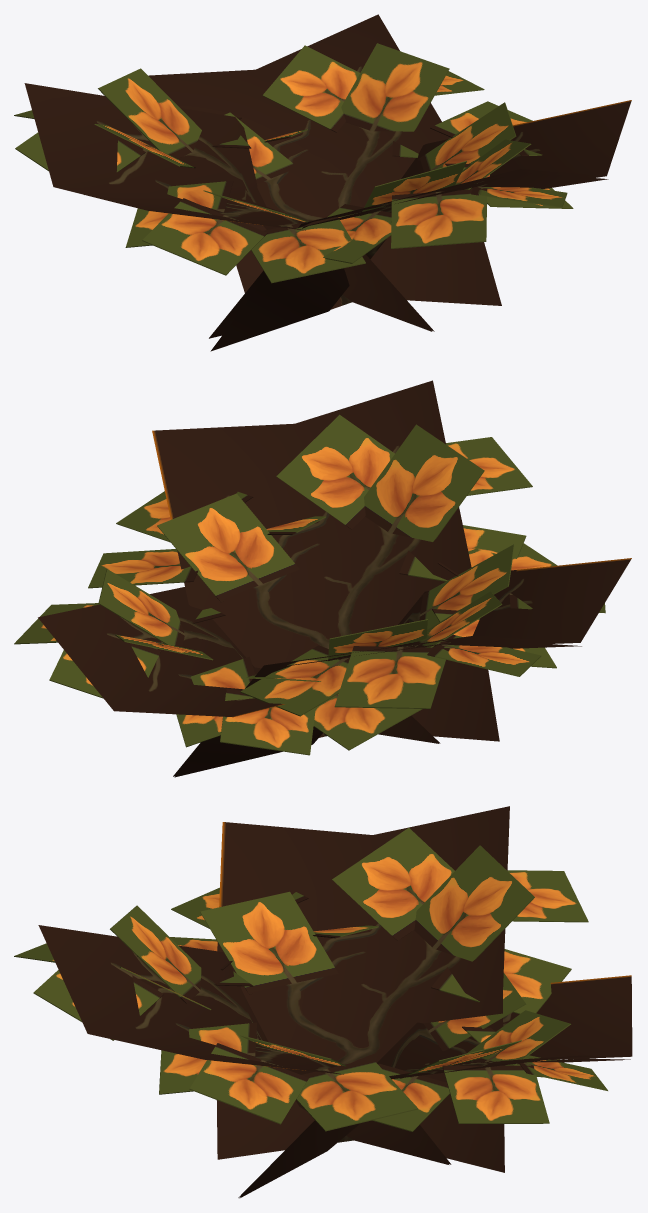
Rendered from bush_03d.fbx.
3 views of the same model, one above another, from view 1: azimuth 30°, elevation 25°; view 2: azimuth 150°, elevation 25°; view 3: azimuth 270°, elevation 25° (orthographic). The views are drawn at different scales.
Visible parts, largest first — view 1: bush_03d; view 2: bush_03d; view 3: bush_03d.
Part boxes in pixels (left/top/right/bottom): bush_03d: left=14, top=14, right=631, bottom=351; bush_03d: left=14, top=380, right=631, bottom=777; bush_03d: left=14, top=806, right=632, bottom=1198.
Size of the model in its own units: 8.67 by 3.75 by 9.
